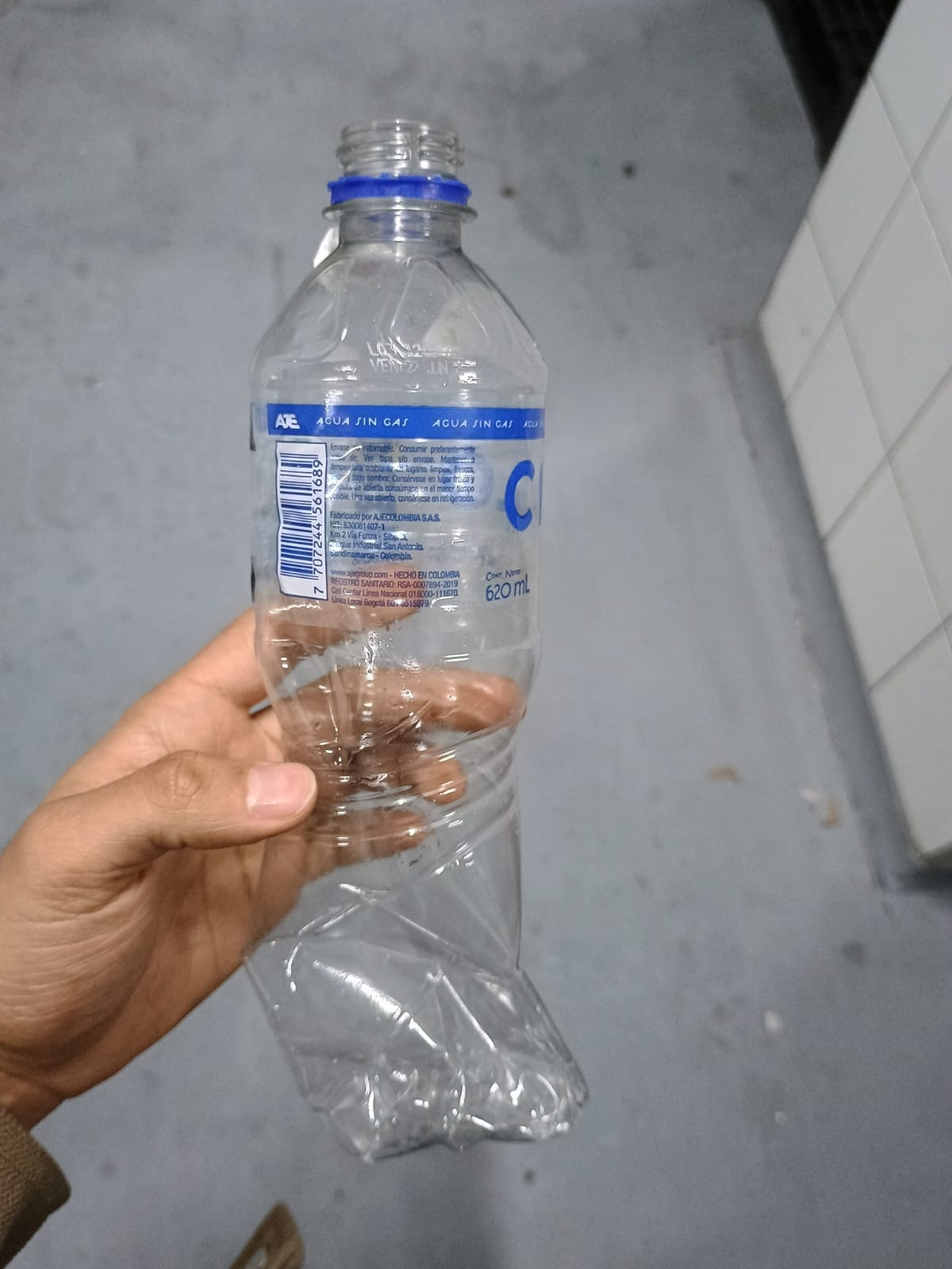Plastico: (244, 117, 590, 1159)
